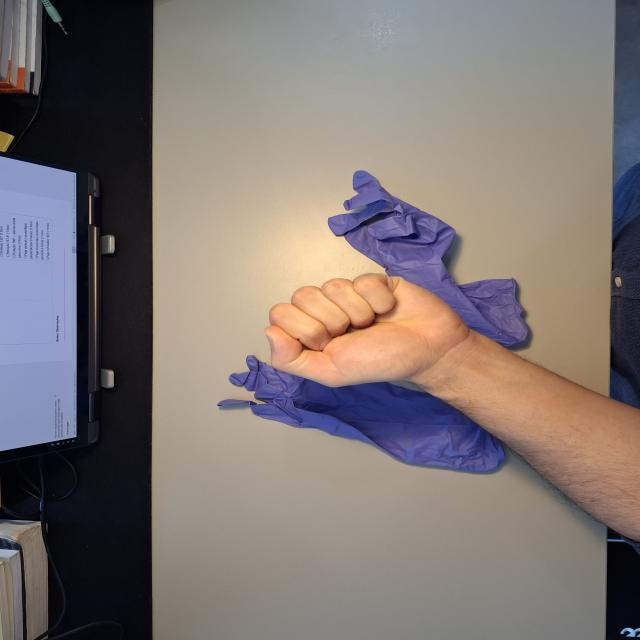glove_off: (262, 270, 478, 398)
